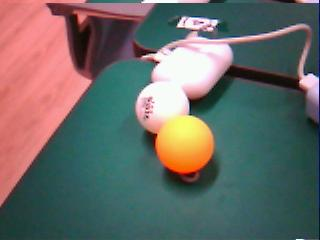oball: (153, 115, 214, 174)
